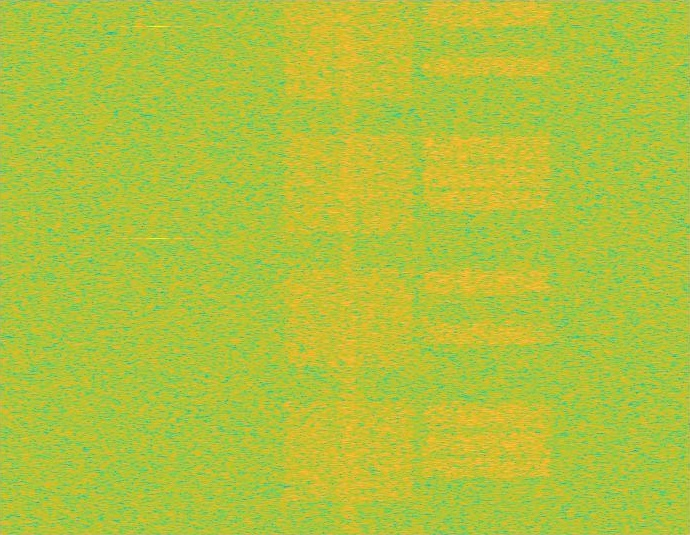5G: (280, 0, 418, 534)
DSSS: (340, 0, 358, 534)
LTE: (418, 0, 556, 534)
Radar: (151, 0, 165, 534)
